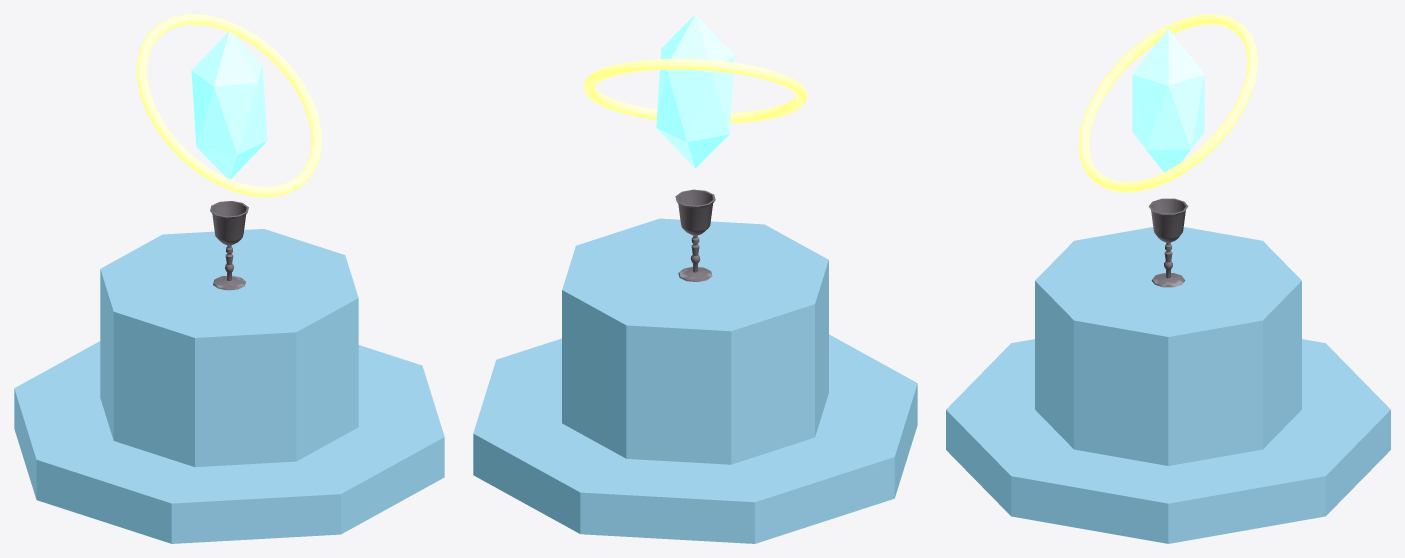
The model's file is prop_revive_shrine.glb.
3 renders of one model, left to right at view 1: azimuth 30°, elevation 25°; view 2: azimuth 150°, elevation 25°; view 3: azimuth 270°, elevation 25°, orthographic. The views are drawn at different scales.
Parts seen in each view (by area): view 1: Cylinder.001, Cylinder, Icosphere, Torus, Chalice; view 2: Cylinder.001, Cylinder, Icosphere, Torus, Chalice; view 3: Cylinder.001, Cylinder, Icosphere, Torus, Chalice.
Boxes of the visible parts, x1,y1,x2,y2 form: Cylinder.001: [100, 229, 358, 467]; Cylinder: [14, 341, 444, 543]; Icosphere: [191, 31, 267, 179]; Torus: [136, 14, 322, 197]; Chalice: [210, 201, 248, 290]; Cylinder.001: [562, 218, 828, 464]; Cylinder: [473, 334, 917, 543]; Icosphere: [656, 14, 734, 168]; Torus: [583, 58, 807, 123]; Chalice: [675, 189, 715, 282]; Cylinder.001: [1035, 227, 1301, 465]; Cylinder: [946, 339, 1390, 543]; Icosphere: [1132, 28, 1204, 172]; Torus: [1078, 14, 1258, 192]; Chalice: [1148, 198, 1188, 287].
Size of the model in its own units: 2.5 by 2.61 by 2.5.
Materials: 4 (1 with a texture image).
